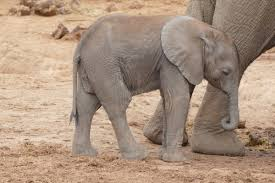Elephant: (59, 14, 245, 163)
